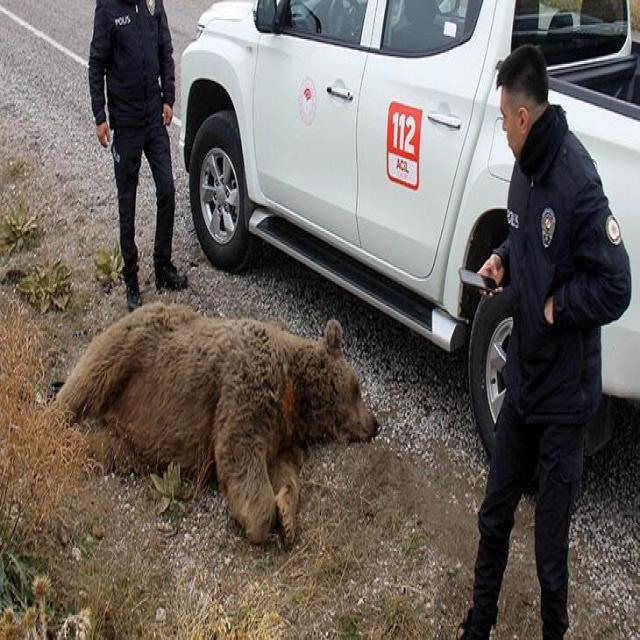Bear: (52, 304, 380, 551)
